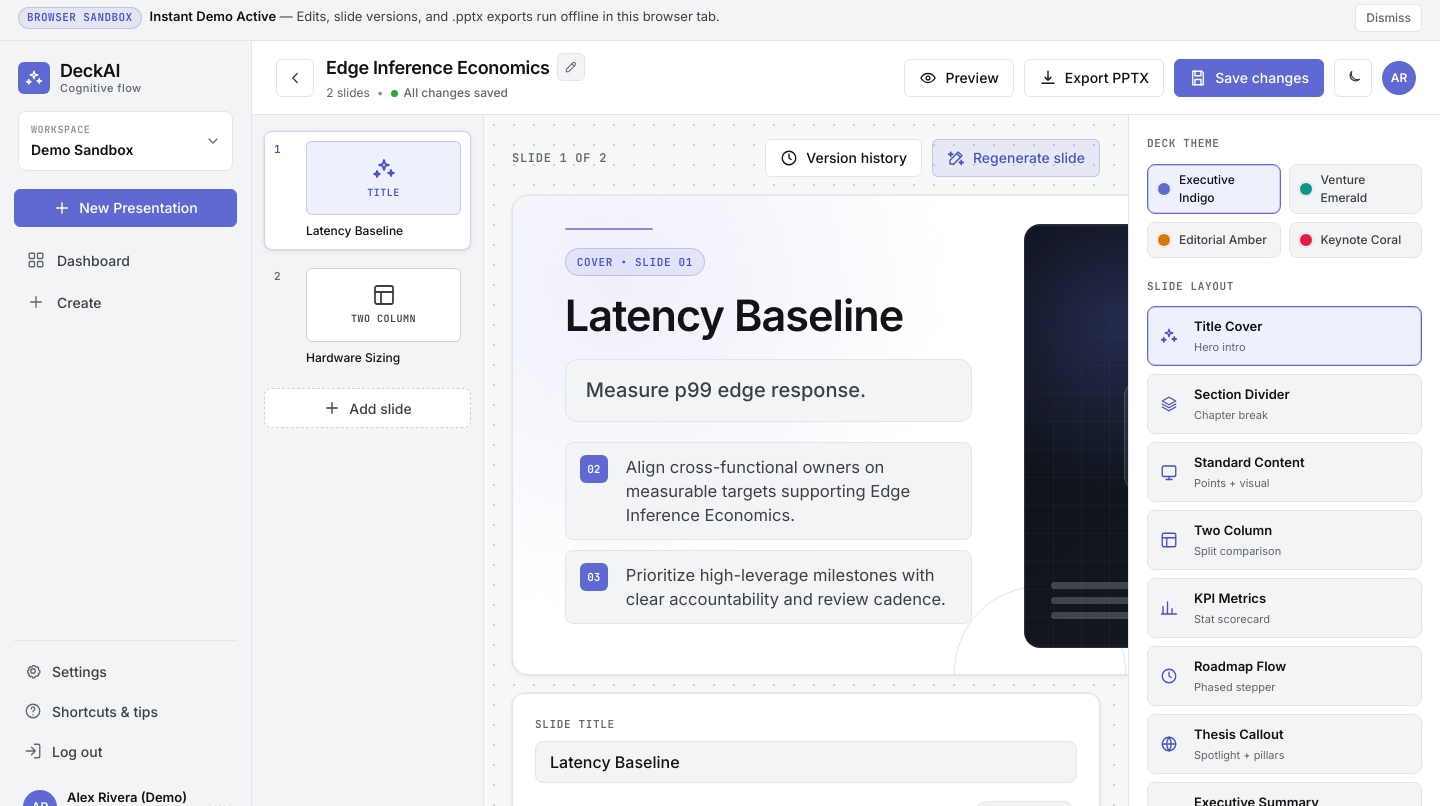
Test case: Task 4: Connected EditorPage, 5-Layout SlideCanvas & Workspace Polish › invokes createSlide, reorderSlides, and deleteSlide and disables Remove slide when 1 slide remains
Expected: the field labelled "Slide title" holds "Latency Baseline", 535,740 -> 1077,782
What coordinates should you click on to do the following:
click the button "Add slide"
I would click on:
 (368, 408)
Its box is 264,388 -> 471,428.
(page scrolled)
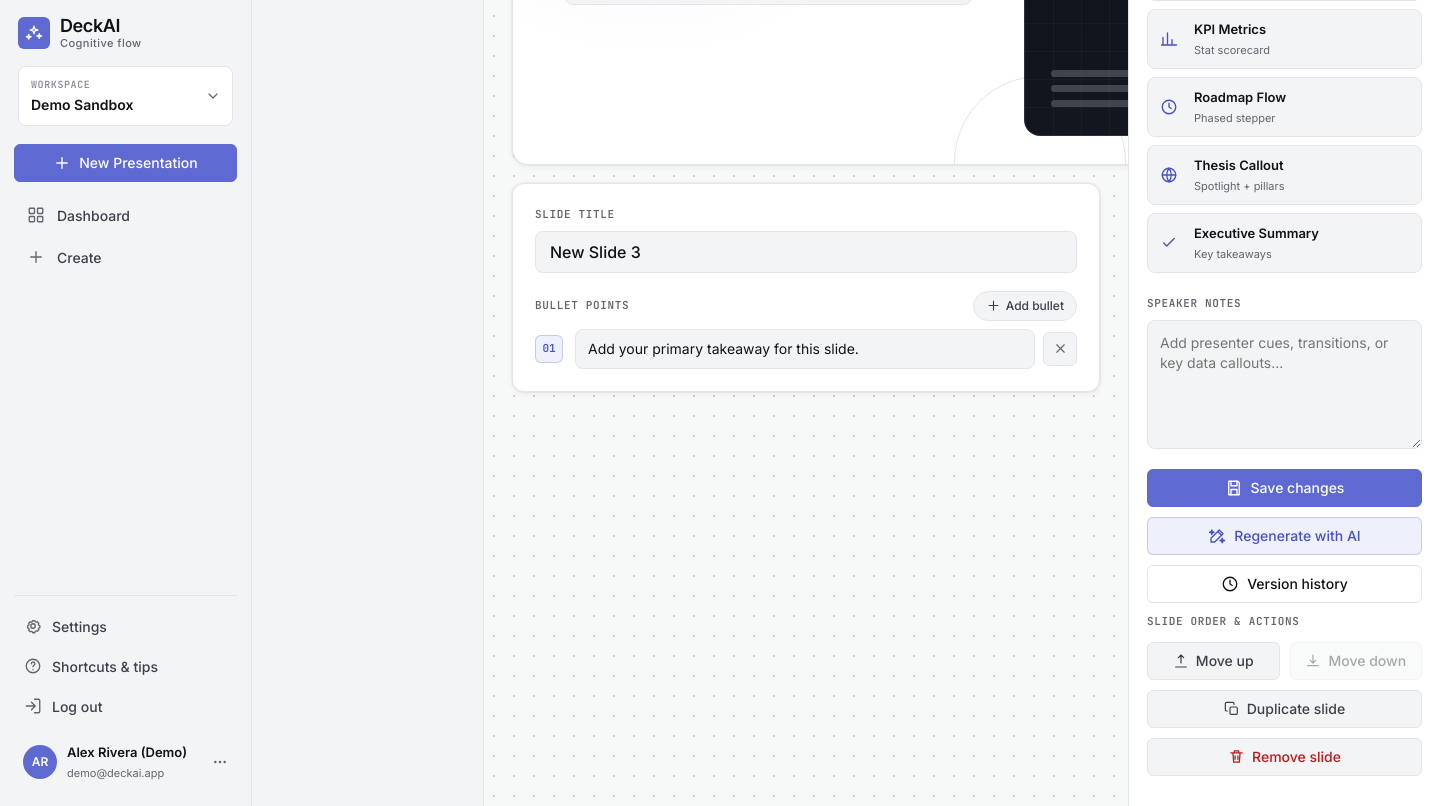
Expected: the button with aria-label "move slide down" is disabled, 1290,642 -> 1422,680
Expected: the button with aria-label "move slide up" is enabled
What coordinates should you click on to do the following:
click the button with aria-label "move slide up"
I would click on:
 (1213, 661)
Its box is 1147,642 -> 1280,680.
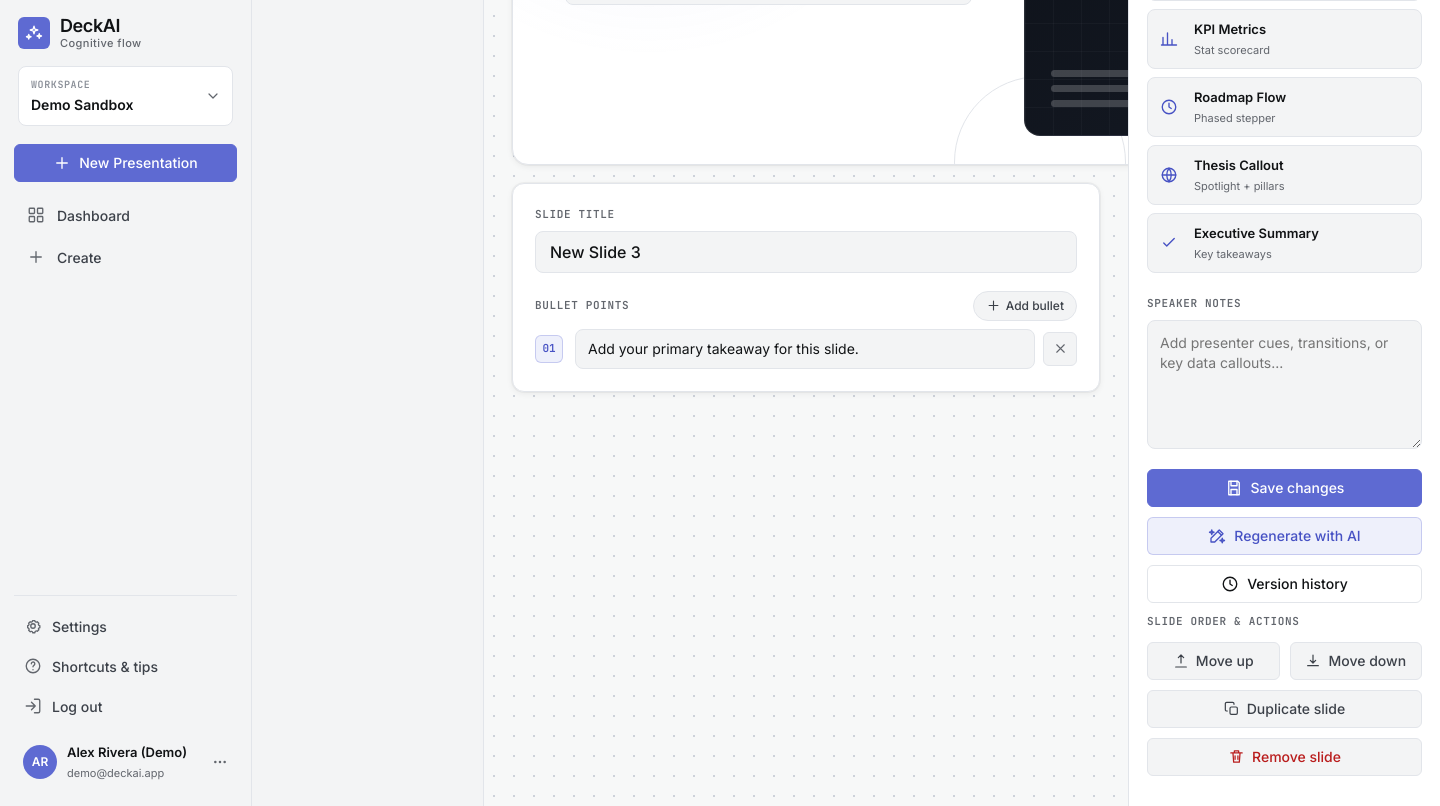
Expected: the button with aria-label "move slide down" is enabled
What coordinates should you click on to do the following:
click the button with aria-label "move slide down"
I would click on:
 (1356, 661)
Its box is 1290,642 -> 1422,680.
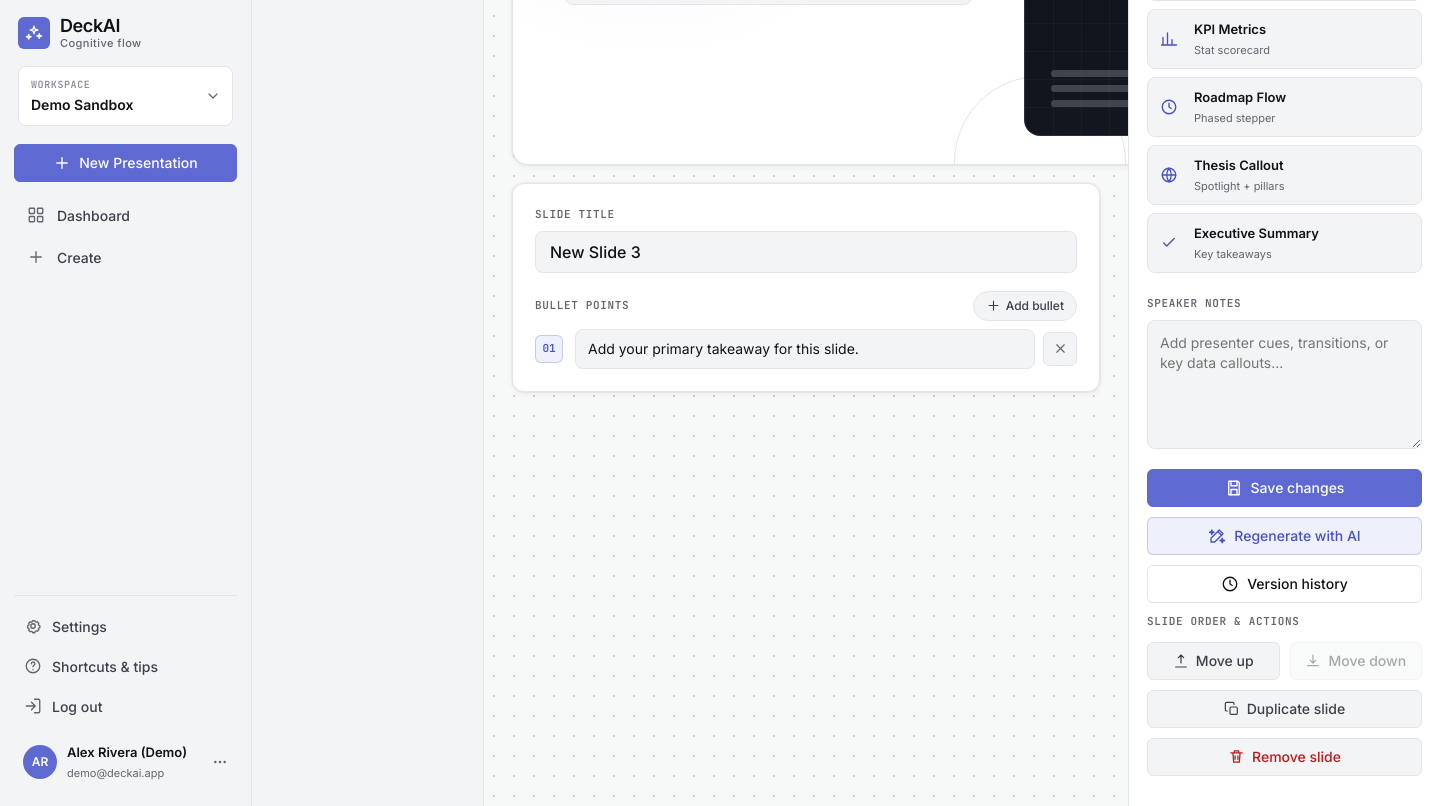
What coordinates should you click on to do the following:
click the button "Remove slide"
I would click on:
 (1284, 757)
Its box is 1147,738 -> 1422,776.
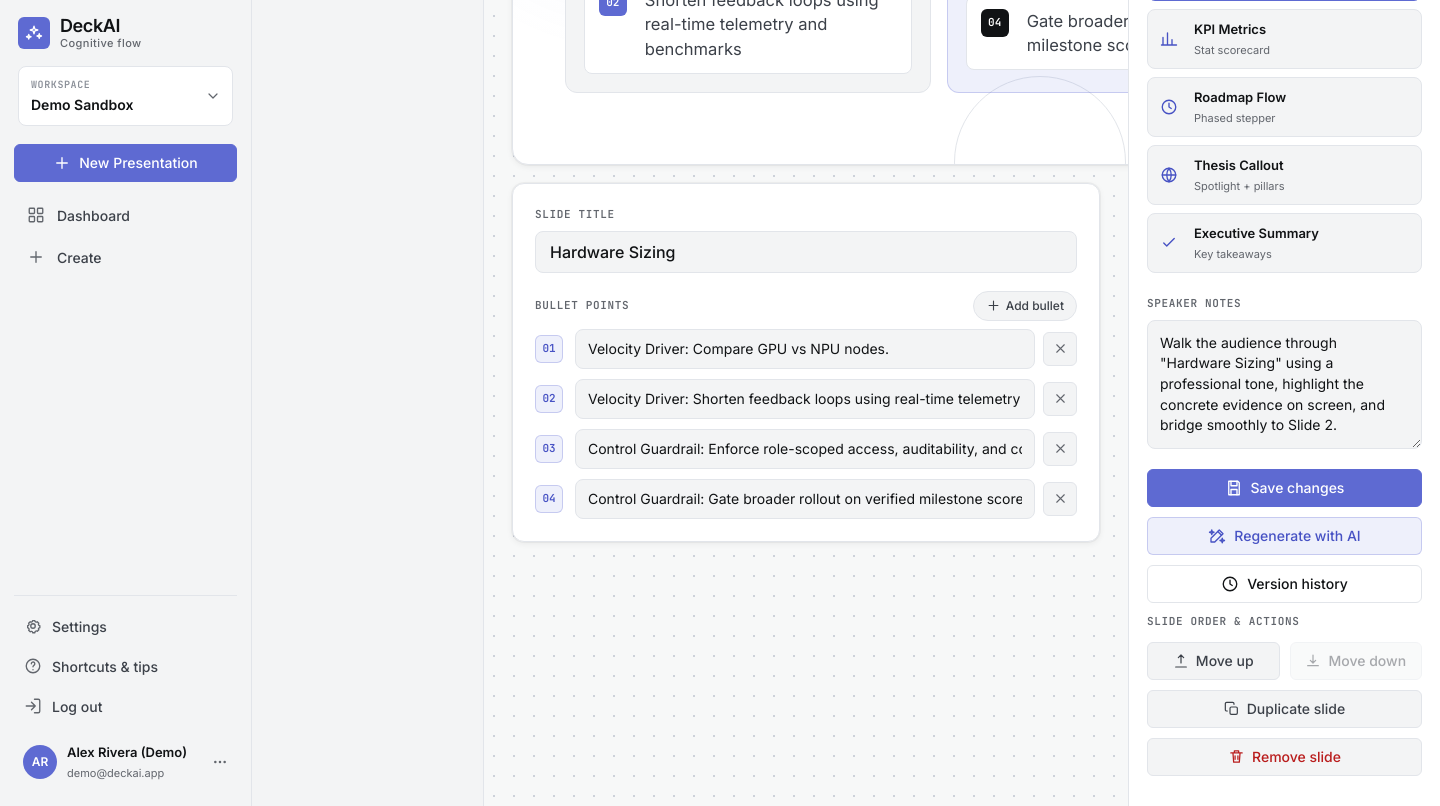
What coordinates should you click on to do the following:
click the button "Remove slide"
I would click on:
 (1284, 757)
Its box is 1147,738 -> 1422,776.
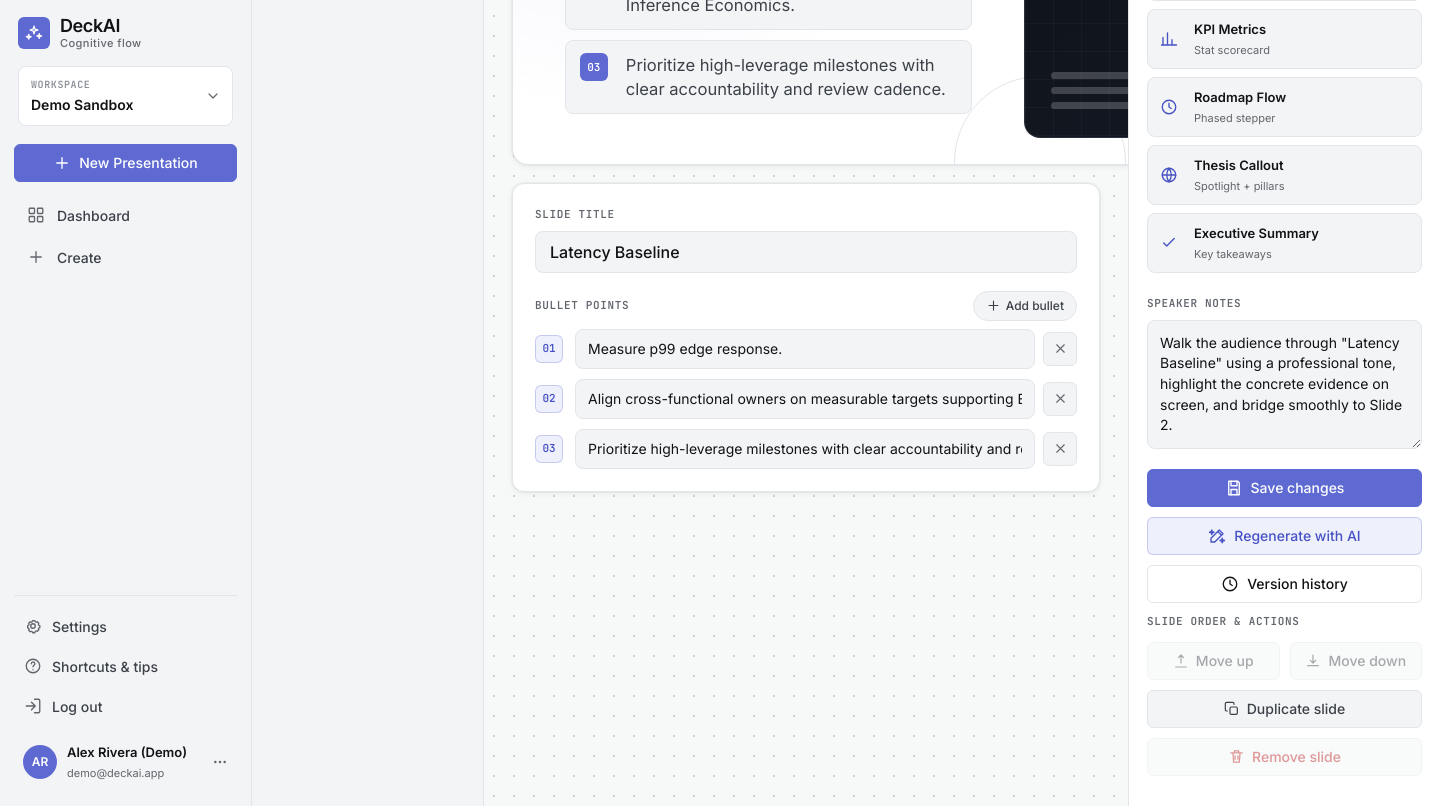
Expected: the button "Remove slide" is disabled, 1147,738 -> 1422,776
